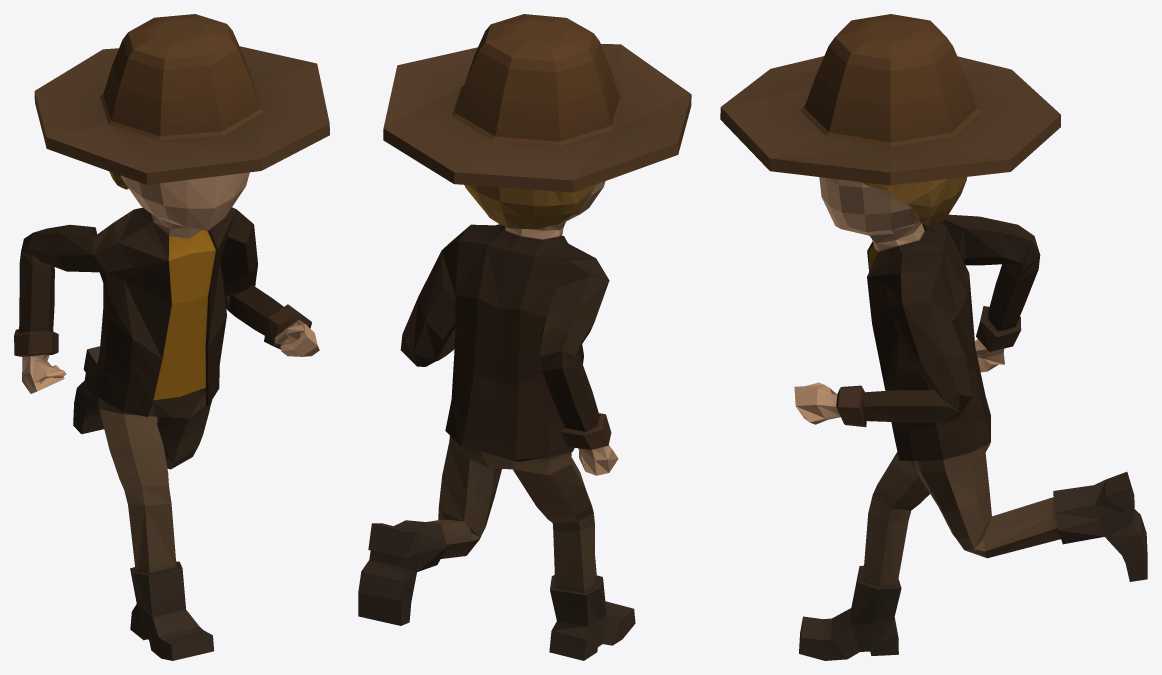
The model's file is run 04.obj.
3 views of the same model, side by side, from view 1: azimuth 30°, elevation 25°; view 2: azimuth 150°, elevation 25°; view 3: azimuth 270°, elevation 25° (orthographic). The views are drawn at different scales.
Visible parts, largest first — view 1: Character_Cube; view 2: Character_Cube; view 3: Character_Cube.
Boxes of the visible parts, x1,y1,x2,y2 form: Character_Cube: (14,14,329,660); Character_Cube: (358,14,691,660); Character_Cube: (720,14,1147,660).
Size of the model in its own units: 7.15 by 15 by 9.14.
